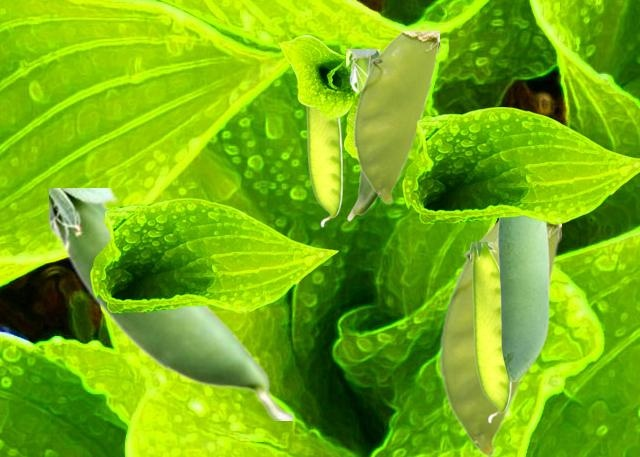pea: (49, 188, 292, 419), (439, 219, 560, 455), (353, 31, 438, 202), (497, 216, 548, 380), (470, 242, 510, 422), (346, 49, 380, 220), (306, 107, 341, 226)
